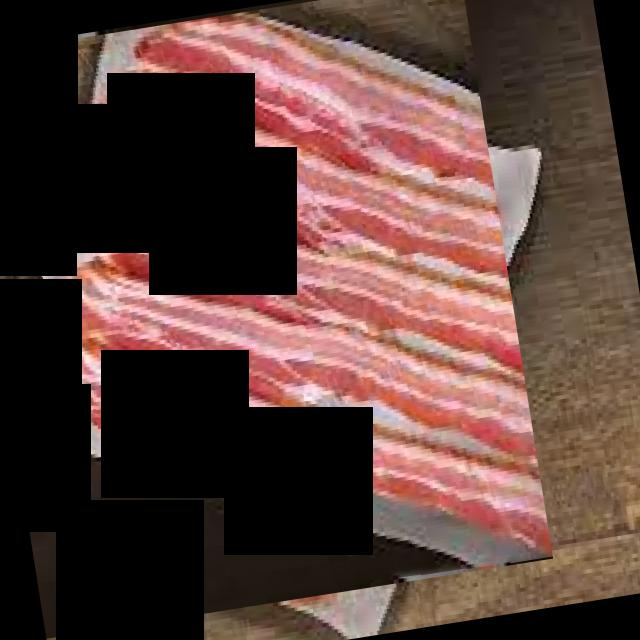bacon: (0, 0, 553, 638)
